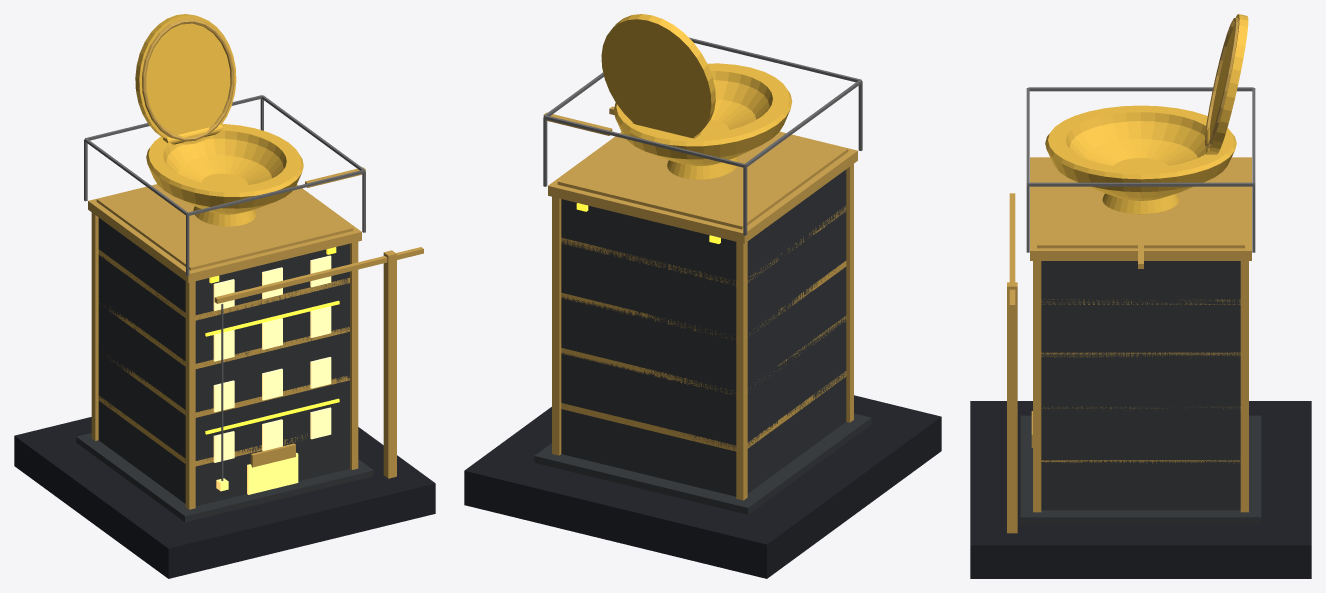
Rendered from project.glb.
The picture shows the model from 3 angles, left to right: view 1: azimuth 30°, elevation 25°; view 2: azimuth 150°, elevation 25°; view 3: azimuth 270°, elevation 25°; orthographic projection. The views are drawn at different scales.
Parts seen in each view (by area): view 1: complete_geo_p_graphite, plinth, complete_geo_p_monument_gold, frame_geo_p_satin_gold, complete_geo_p_satin_gold, complete_geo_p_window, foundation_geo_p_satin_gold, foundation_geo_p_graphite, facade_geo_p_steel, complete_geo_p_amber, complete_geo_p_gold_glow; view 2: complete_geo_p_graphite, plinth, complete_geo_p_monument_gold, frame_geo_p_satin_gold, complete_geo_p_satin_gold, foundation_geo_p_graphite, facade_geo_p_steel; view 3: complete_geo_p_graphite, plinth, complete_geo_p_monument_gold, frame_geo_p_satin_gold, complete_geo_p_satin_gold, foundation_geo_p_graphite, facade_geo_p_steel, foundation_geo_p_satin_gold.
Part boxes in pixels (x1,y1,x2,y2): complete_geo_p_graphite: (98,218,349,506); plinth: (14,417,435,578); complete_geo_p_monument_gold: (135,14,303,226); frame_geo_p_satin_gold: (96,167,365,466); complete_geo_p_satin_gold: (88,18,361,509); complete_geo_p_window: (213,255,331,462); foundation_geo_p_satin_gold: (214,247,423,478); foundation_geo_p_graphite: (76,433,373,522); facade_geo_p_steel: (84,95,365,275); complete_geo_p_amber: (247,452,298,494); complete_geo_p_gold_glow: (205,247,339,434); complete_geo_p_graphite: (561,169,846,496); plinth: (464,395,941,578); complete_geo_p_monument_gold: (601,14,792,179); frame_geo_p_satin_gold: (543,112,848,451); complete_geo_p_satin_gold: (548,131,857,500); foundation_geo_p_graphite: (534,413,871,514); facade_geo_p_steel: (543,37,862,235); complete_geo_p_graphite: (1041,261,1240,510); plinth: (970,401,1311,578); complete_geo_p_monument_gold: (1045,14,1248,214); frame_geo_p_satin_gold: (1037,157,1244,463); complete_geo_p_satin_gold: (1030,17,1251,512); foundation_geo_p_graphite: (1020,415,1261,524); facade_geo_p_steel: (1026,87,1255,252); foundation_geo_p_satin_gold: (1007,193,1017,533).
Bounding box in the file's own units: 8.46 × 13.06 × 8.28.
